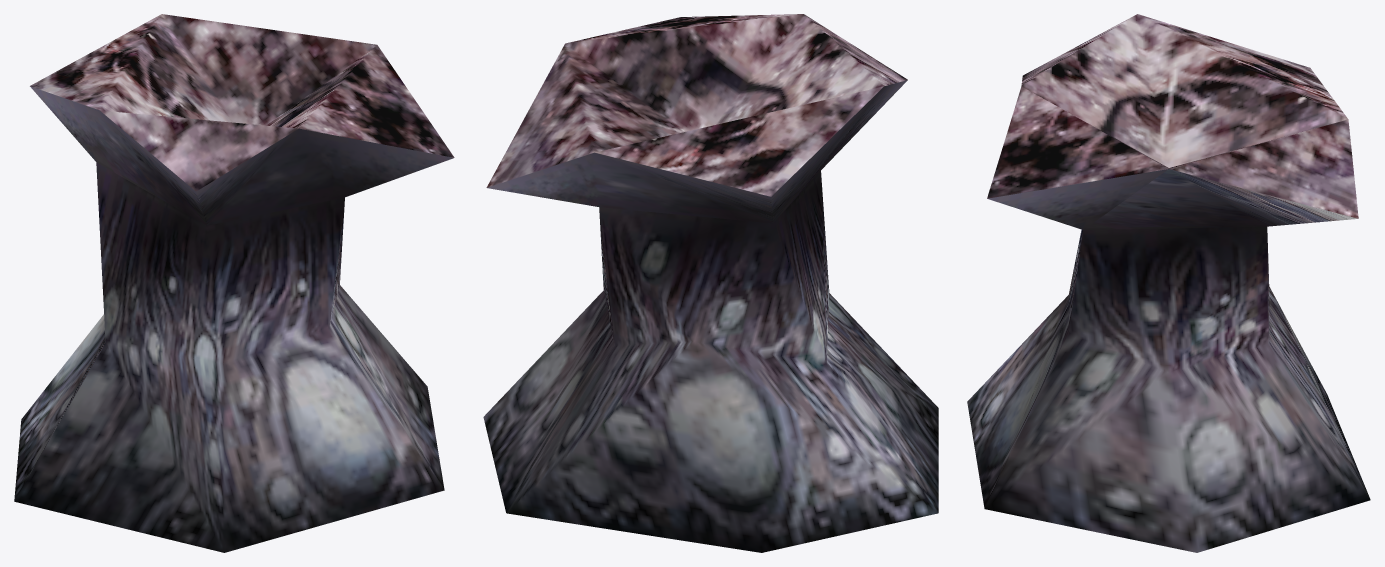
Rendered from grenade_fungus_stump_l0.fbx.
3 views of the same model, side by side, from view 1: azimuth 30°, elevation 25°; view 2: azimuth 150°, elevation 25°; view 3: azimuth 270°, elevation 25° (orthographic). The views are drawn at different scales.
Visible parts, largest first — view 1: mesh_node; view 2: mesh_node; view 3: mesh_node.
Boxes of the visible parts, <box> form: mesh_node: <box>14,14,454,552</box>; mesh_node: <box>483,14,938,552</box>; mesh_node: <box>967,14,1370,552</box>.
Size of the model in its own units: 0.3047 by 0.2628 by 0.2592.
